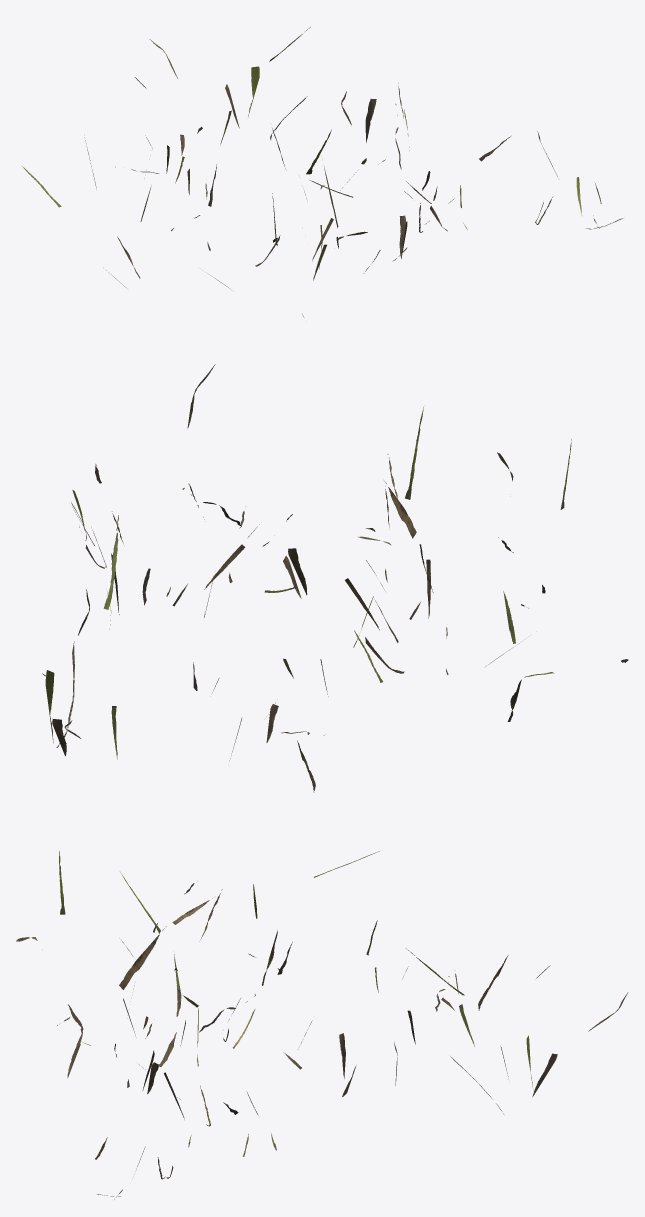
Rendered from grass_clumps_rbdoo.gltf.
The picture shows the model from 3 angles, top to bottom: view 1: azimuth 30°, elevation 25°; view 2: azimuth 150°, elevation 25°; view 3: azimuth 270°, elevation 25°; orthographic projection. The views are drawn at different scales.
Visible parts, largest first — view 1: SM_rbdoo_VarA; view 2: SM_rbdoo_VarA, SM_rbdoo_VarB; view 3: SM_rbdoo_VarA, SM_rbdoo_VarB.
Part boxes in pixels (left/top/right/bottom): SM_rbdoo_VarA: left=22, top=39, right=601, bottom=288; SM_rbdoo_VarA: left=42, top=364, right=628, bottom=792; SM_rbdoo_VarB: left=79, top=439, right=571, bottom=721; SM_rbdoo_VarA: left=16, top=851, right=628, bottom=1179; SM_rbdoo_VarB: left=57, top=851, right=464, bottom=1199.
Size of what is drawn, in the model's own units: 0.5919 by 0.2213 by 0.5841.
Materials: 1 (1 with a texture image).
